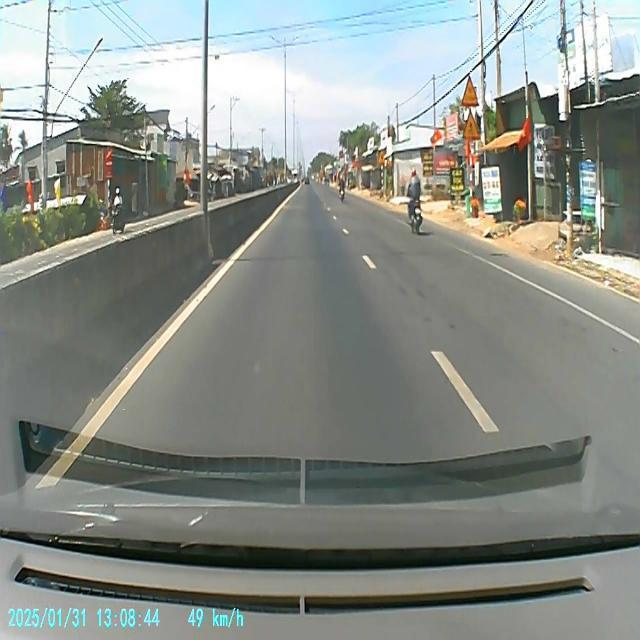224-duong-nguoi-di-bo-cat-ngang: (461, 110, 479, 142)
245-di-cham: (461, 76, 479, 106)
